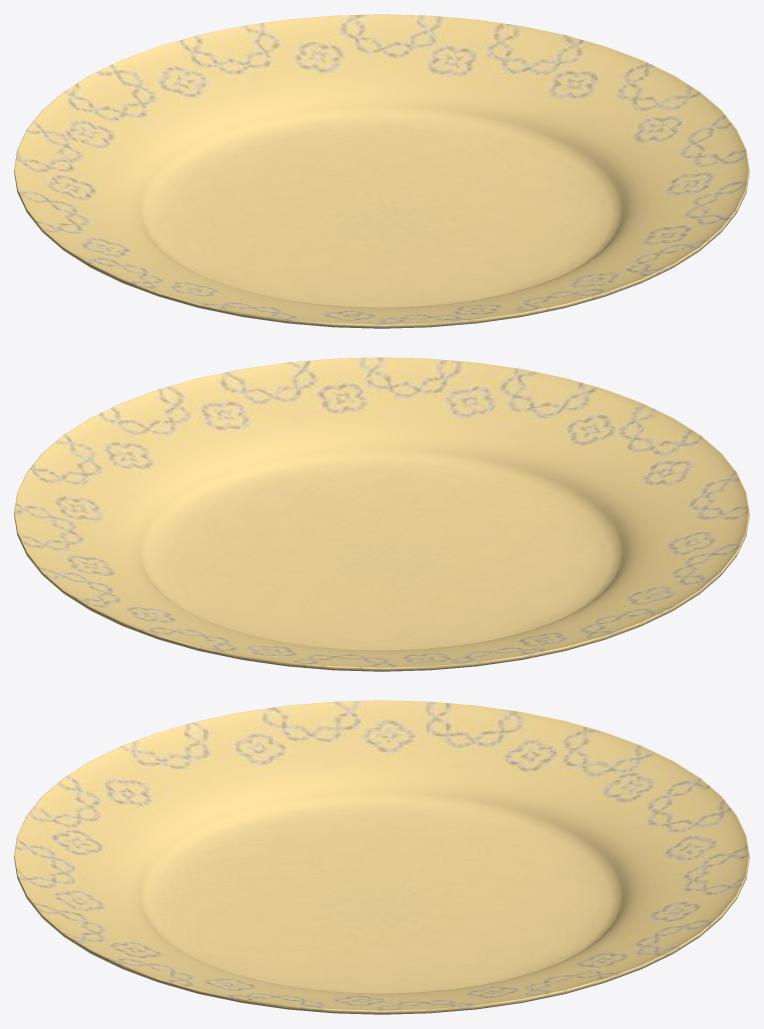
File: plate.glb
The picture shows the model from 3 angles, top to bottom: view 1: azimuth 30°, elevation 25°; view 2: azimuth 150°, elevation 25°; view 3: azimuth 270°, elevation 25°; orthographic projection.
Parts seen in each view (by area): view 1: Side_plate_; view 2: Side_plate_; view 3: Side_plate_.
Boxes of the visible parts, x1,y1,x2,y2 form: Side_plate_: [14, 14, 749, 328]; Side_plate_: [14, 357, 749, 671]; Side_plate_: [14, 700, 749, 1014].
Bounding box in the file's own units: 20 × 1.83 × 20.
Materials: 1 (1 with a texture image).
